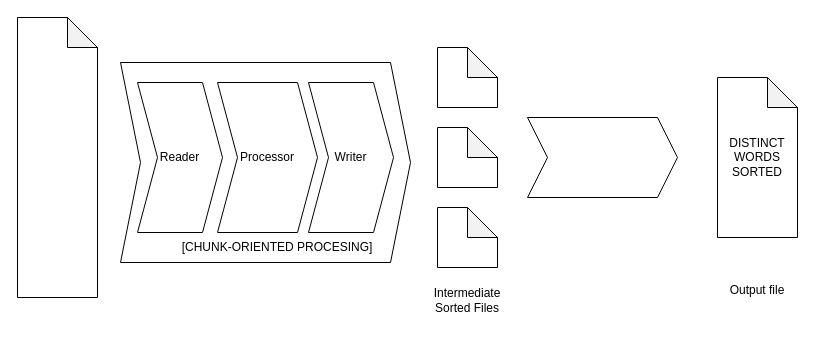
Image size: 830x340. Some labels were removed from this diagram. The shapes that lost their labels are listed below. From the top down, each one's centre as x and y in pixels, then its label:
At (57,157): "LARGE TEXT FILE".
At (602,157): "[TASKLET] External Merge Sort".
